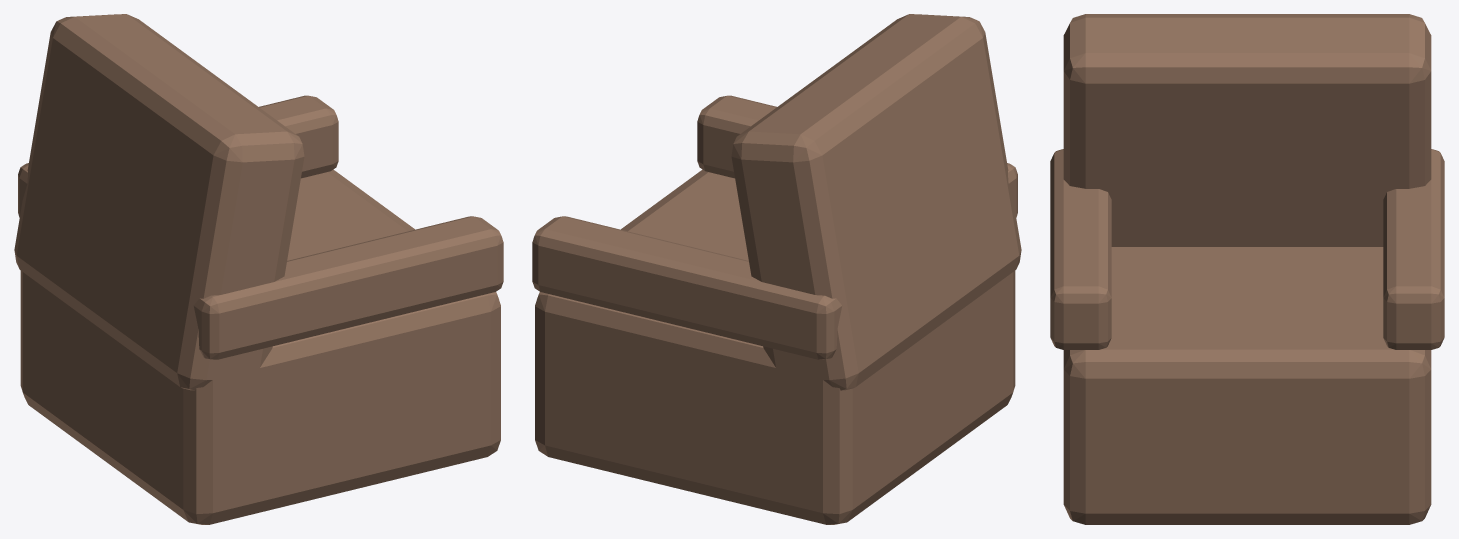
The model's file is recliner.glb.
The picture shows the model from 3 angles, left to right: view 1: azimuth 30°, elevation 25°; view 2: azimuth 150°, elevation 25°; view 3: azimuth 270°, elevation 25°; orthographic projection.
Visible parts, largest first — view 1: recliner; view 2: recliner; view 3: recliner.
Boxes of the visible parts, x1,y1,x2,y2 form: recliner: (14,14,503,524); recliner: (532,14,1021,524); recliner: (1050,14,1444,524).
Size of the model in its own units: 0.8563 by 0.9728 by 0.9.
